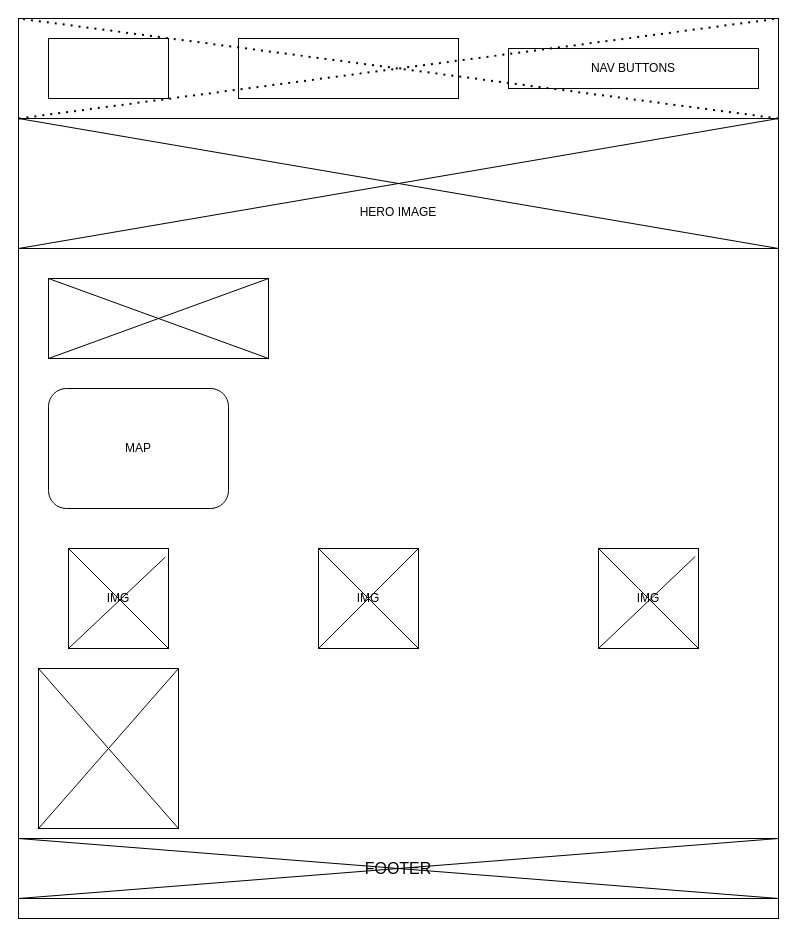
This 797x936 diagram has some shape labels left out. Each missing label, with the box of its shape:
CONTACT DETAILS: (48, 278, 268, 358)
LOGO: (48, 38, 168, 98)
TITLE: (238, 38, 458, 98)
